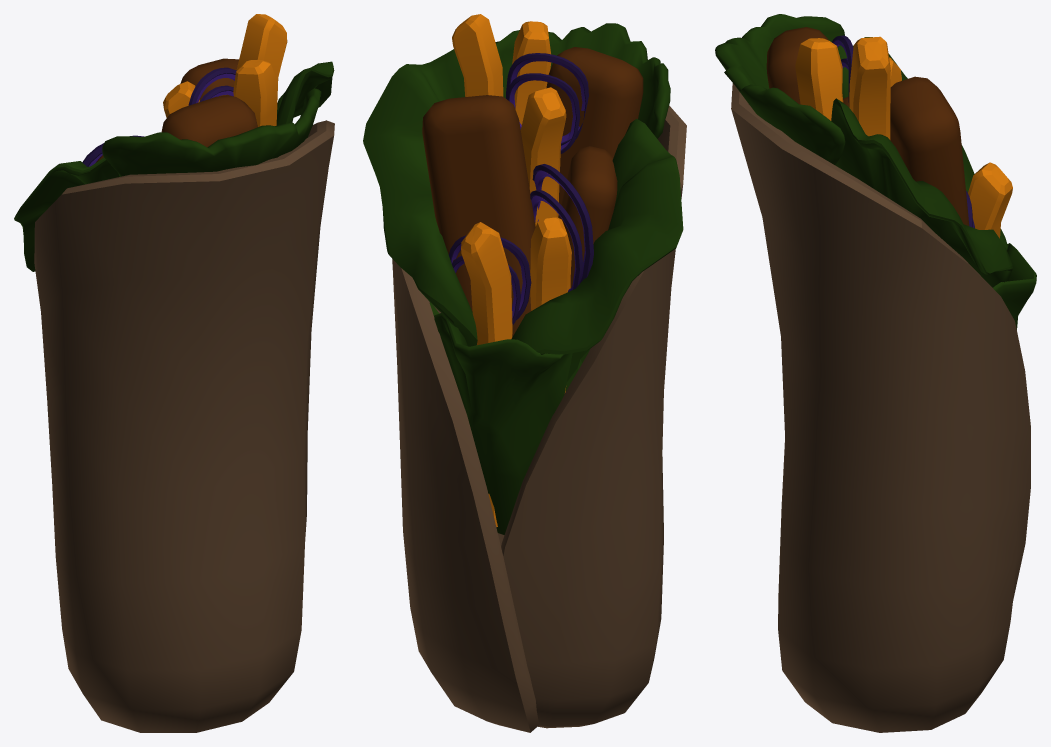
Rendered from Pita.FBX.
3 renders of one model, left to right at view 1: azimuth 30°, elevation 25°; view 2: azimuth 150°, elevation 25°; view 3: azimuth 270°, elevation 25°, orthographic. The views are drawn at different scales.
Parts seen in each view (by area): view 1: Pita; view 2: Pita; view 3: Pita.
Part boxes in pixels (<box>): Pita: <box>14,14,334,732</box>; Pita: <box>363,14,686,732</box>; Pita: <box>715,14,1036,732</box>.
Bounding box in the file's own units: 616 × 523 × 1256.
